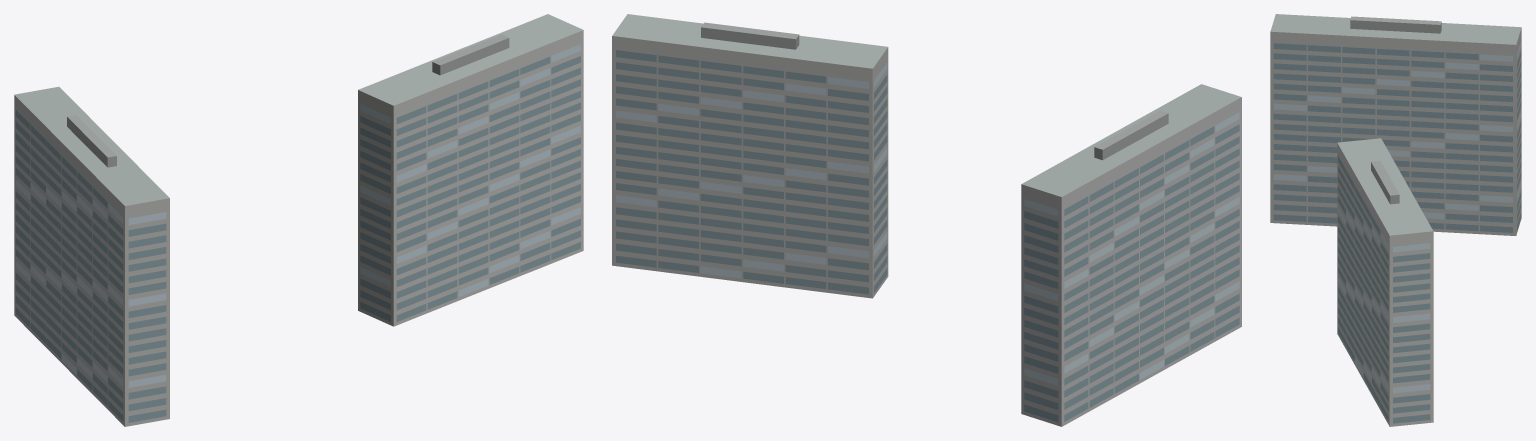
File: apt-a13986703.glb
3 views of the same model, side by side, from view 1: azimuth 30°, elevation 25°; view 2: azimuth 150°, elevation 25°; view 3: azimuth 270°, elevation 25° (orthographic). The views are drawn at different scales.
Visible parts, largest first — view 1: apt-a13986703; view 2: apt-a13986703; view 3: apt-a13986703.
Boxes of the visible parts, left/top/right/bottom form: apt-a13986703: left=14, top=14, right=583, bottom=426; apt-a13986703: left=612, top=14, right=1241, bottom=426; apt-a13986703: left=1270, top=14, right=1521, bottom=426.
Bounding box in the file's own units: 131 × 55 × 62.59.
